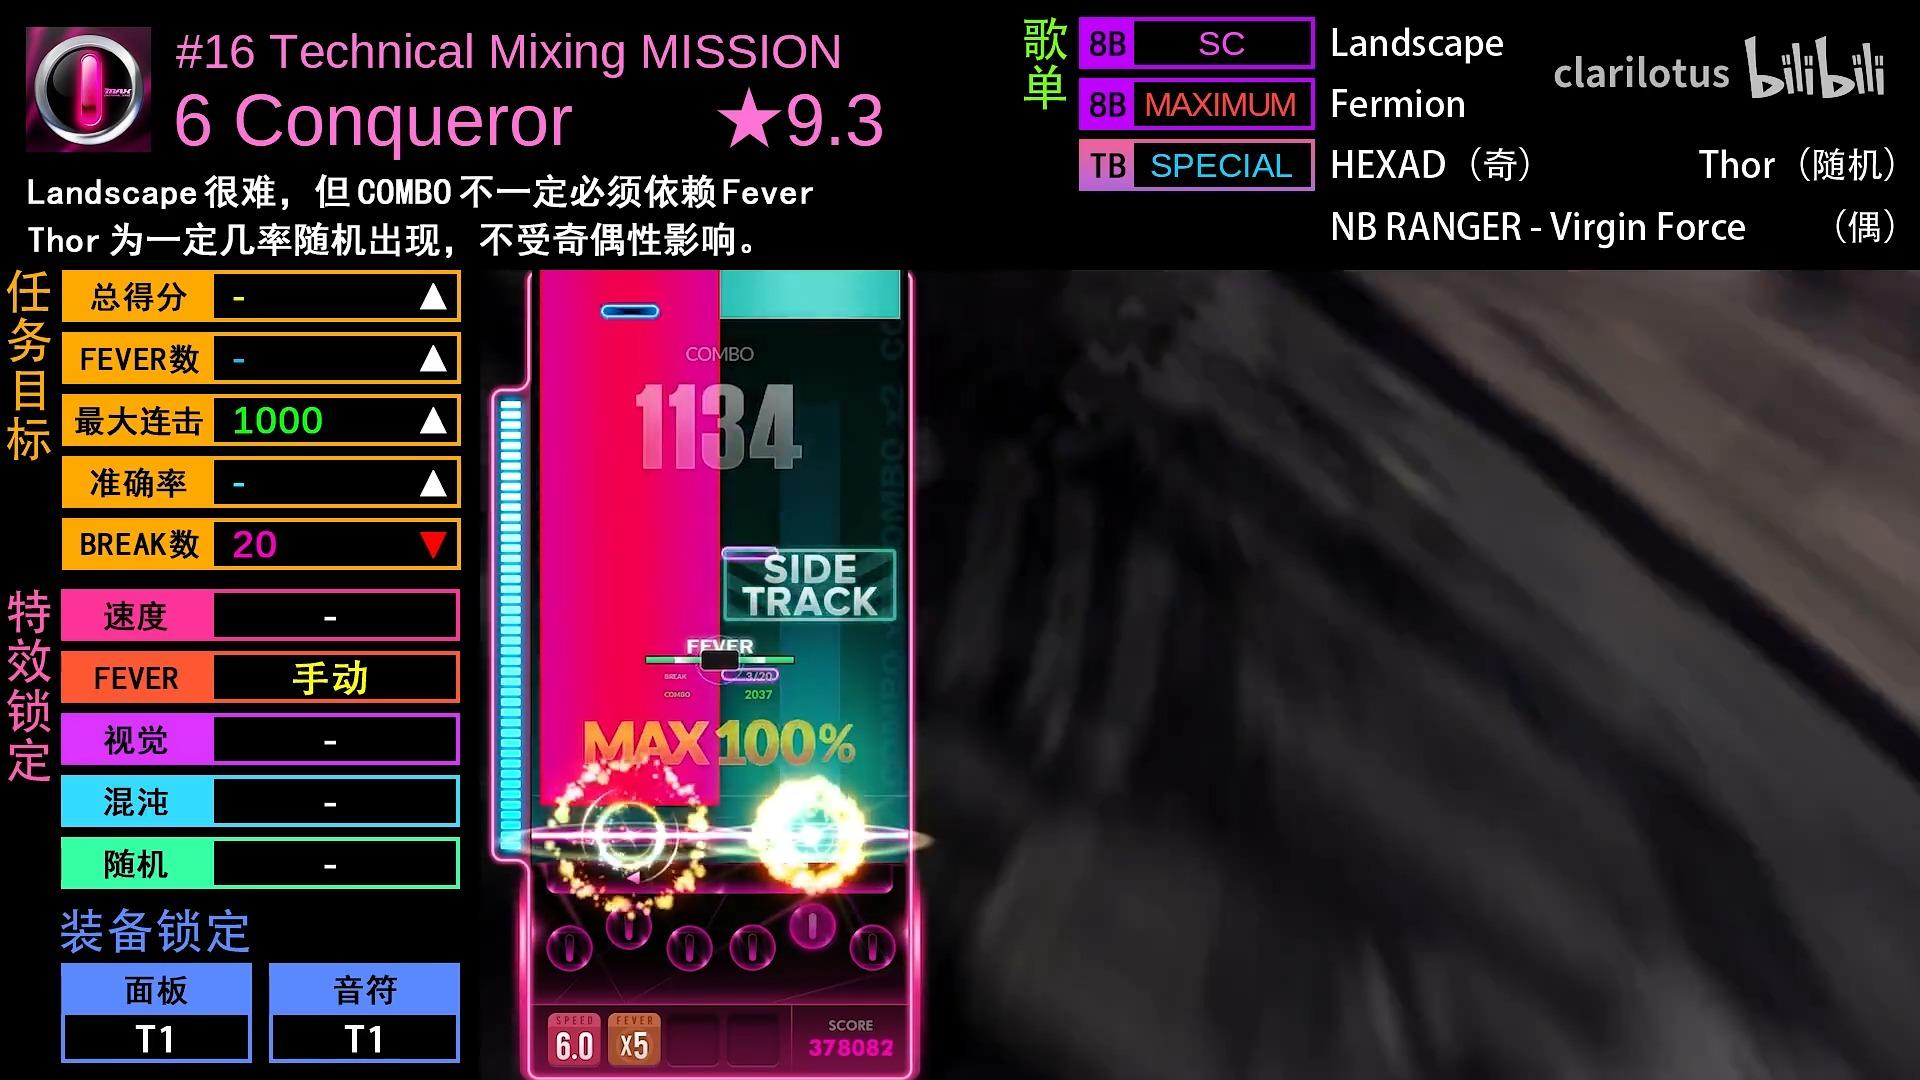note: (597, 302, 661, 320), (721, 545, 779, 560), (721, 667, 779, 682)
side-start: (720, 303, 901, 319)
xstart: (539, 787, 721, 806)
